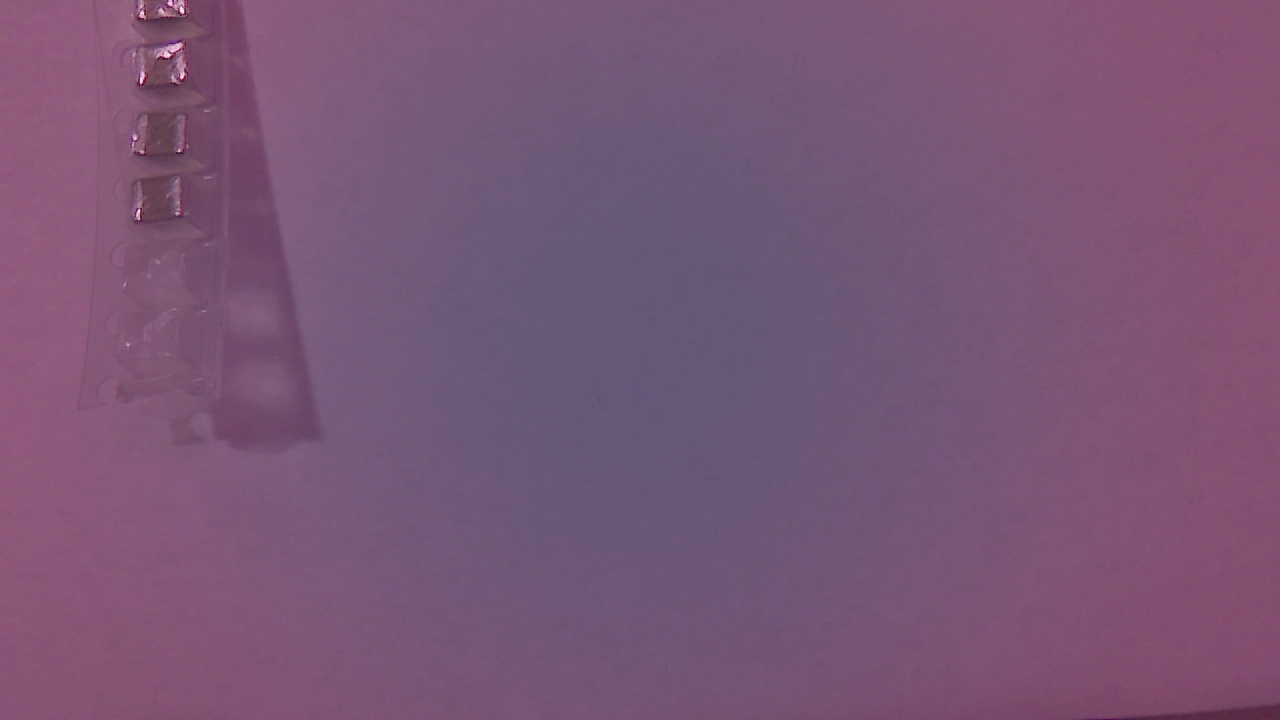Condensator: (135, 45, 199, 99), (134, 180, 197, 233), (138, 114, 195, 161)
